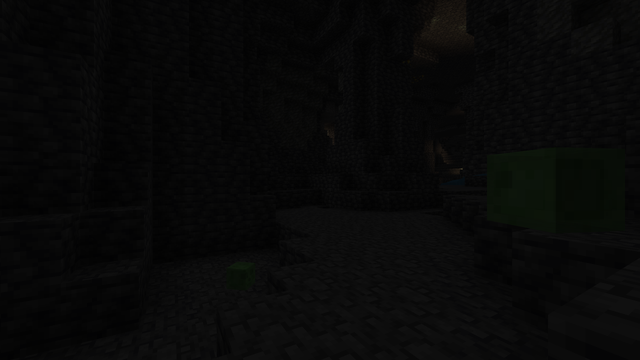slimes: (487, 141, 614, 235), (228, 260, 254, 291)
